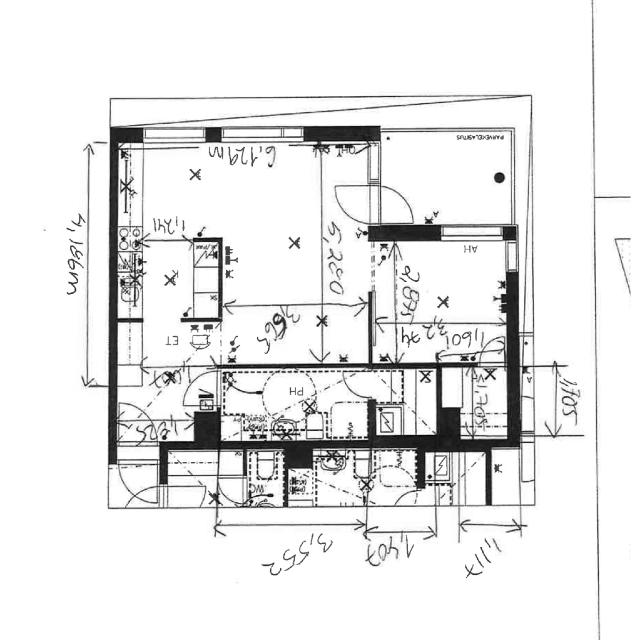door: (114, 458, 164, 508), (331, 178, 377, 224), (182, 366, 222, 414), (374, 182, 418, 225), (341, 364, 384, 402), (217, 474, 250, 508), (364, 142, 383, 189), (392, 488, 420, 510)
window: (213, 122, 313, 148), (433, 218, 509, 248), (138, 124, 210, 150), (500, 236, 522, 278), (364, 144, 384, 189)
zone: (118, 140, 324, 250), (376, 235, 508, 324), (220, 366, 368, 441), (115, 238, 220, 320), (213, 302, 320, 368), (114, 364, 201, 443), (370, 320, 505, 366), (442, 363, 510, 441), (295, 444, 372, 510), (126, 320, 223, 368), (373, 368, 438, 437), (370, 444, 420, 505), (246, 446, 285, 508)
